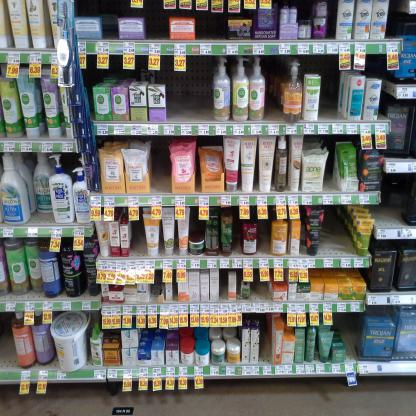Void: (169, 72, 210, 123), (153, 144, 170, 195), (325, 208, 343, 256), (196, 14, 228, 40), (324, 58, 338, 116), (269, 60, 280, 122), (344, 314, 358, 360), (378, 204, 401, 229), (148, 14, 166, 38), (131, 223, 143, 253), (391, 12, 403, 38), (262, 322, 270, 357), (105, 16, 116, 40), (260, 223, 268, 253), (220, 272, 228, 299), (330, 5, 334, 38), (194, 221, 202, 236)
